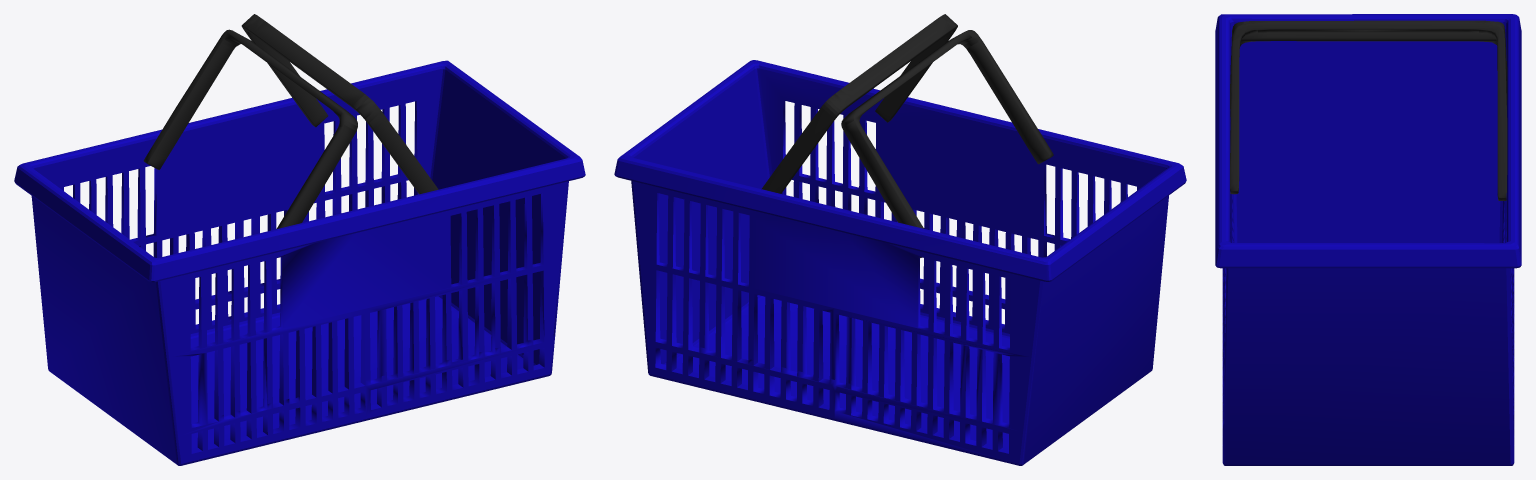
The model's file is GroceryBasket.glb.
The picture shows the model from 3 angles, left to right: view 1: azimuth 30°, elevation 25°; view 2: azimuth 150°, elevation 25°; view 3: azimuth 270°, elevation 25°; orthographic projection. The views are drawn at different scales.
Parts seen in each view (by area): view 1: Basket, BasketHandle.001, BasketHandle; view 2: Basket, BasketHandle.001, BasketHandle; view 3: Basket, BasketHandle, BasketHandle.001.
Boxes of the visible parts, <box> form: Basket: <box>14,60,585,465</box>; BasketHandle.001: <box>143,29,357,228</box>; BasketHandle: <box>241,14,438,194</box>; Basket: <box>614,60,1186,465</box>; BasketHandle.001: <box>841,30,1053,257</box>; BasketHandle: <box>761,14,957,193</box>; Basket: <box>1215,14,1521,465</box>; BasketHandle: <box>1230,22,1507,200</box>; BasketHandle.001: <box>1230,20,1507,116</box>.
Size of the model in its own units: 0.5358 by 0.3706 by 0.2939.
